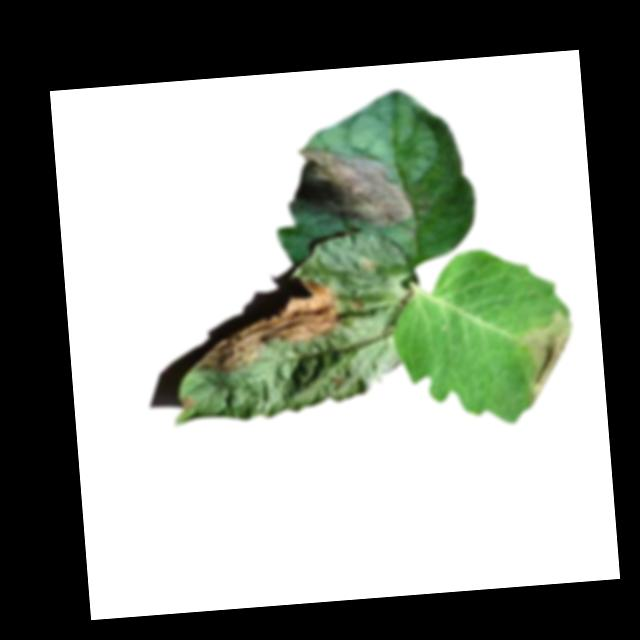Late_blight: (190, 273, 345, 376), (285, 139, 421, 235), (516, 308, 581, 400), (181, 393, 196, 408)
